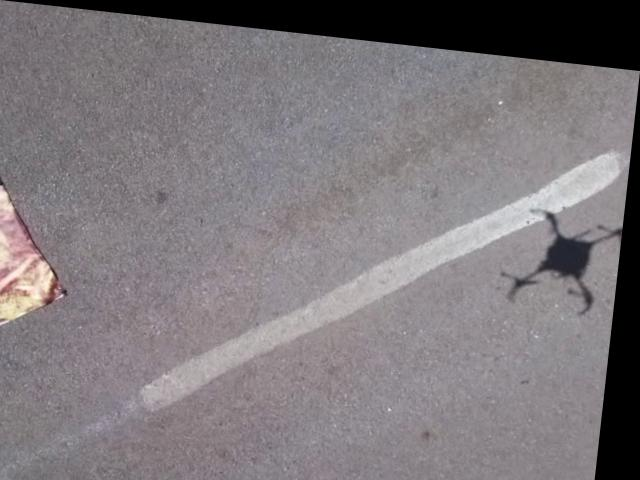fire-poster: (0, 173, 84, 341)
